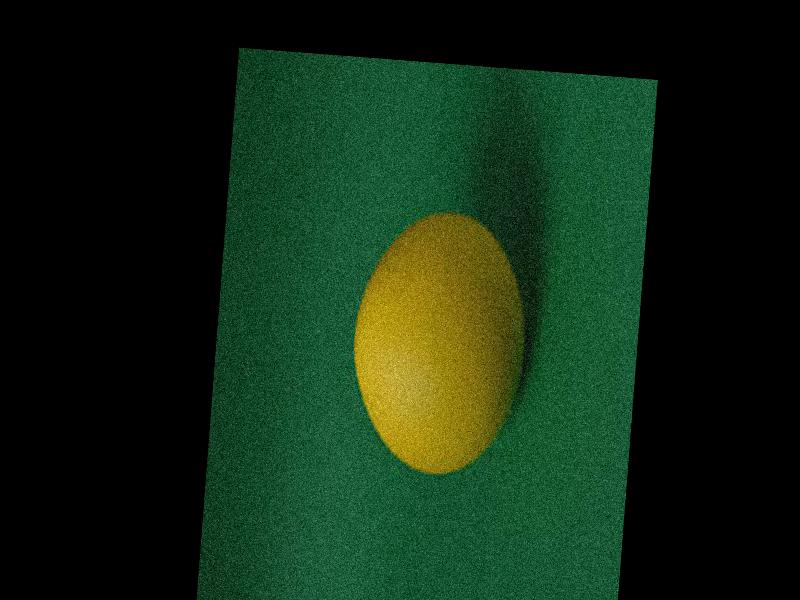Eggs: (343, 214, 535, 483)
